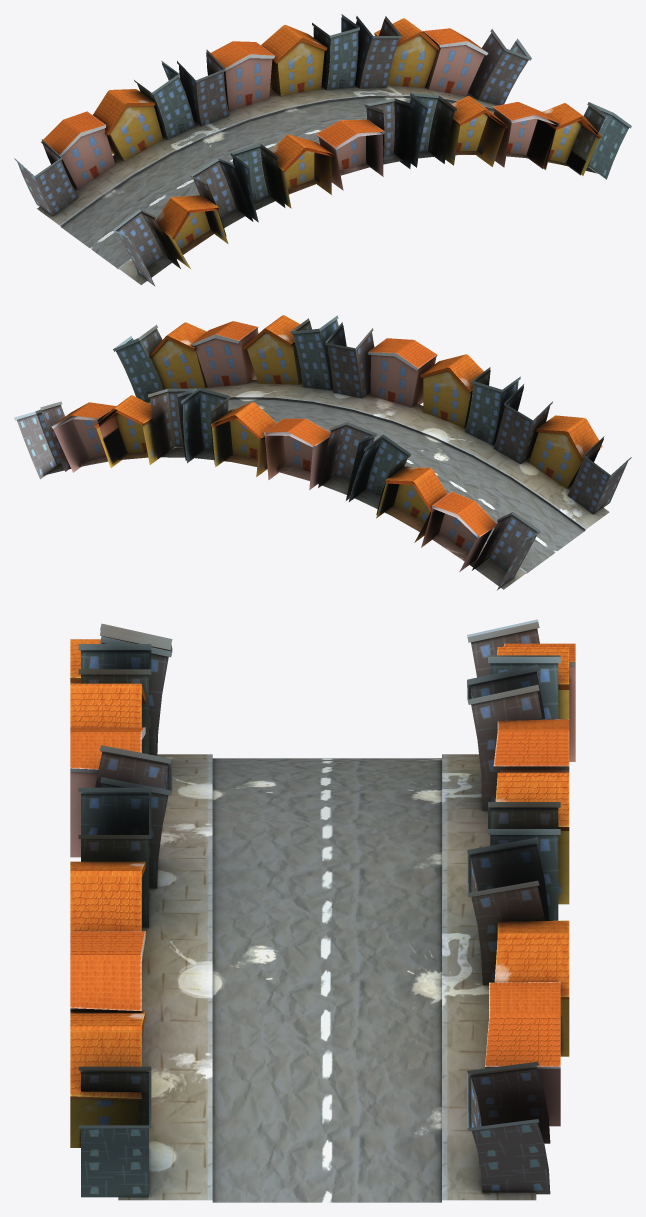
Rendered from modula_A.FBX.
3 views of the same model, one above another, from view 1: azimuth 30°, elevation 25°; view 2: azimuth 150°, elevation 25°; view 3: azimuth 270°, elevation 25° (orthographic). The views are drawn at different scales.
Parts seen in each view (by area): view 1: modula_A_03, modula_A_01, modula_A_02, modula_A_04, modula_A_00; view 2: modula_A_03, modula_A_04, modula_A_01, modula_A_00, modula_A_02; view 3: modula_A_03, modula_A_02, modula_A_00, modula_A_01, modula_A_04.
Part boxes in pixels (box(x1,y1,x2,y2)): modula_A_03: box(37, 85, 597, 284); modula_A_01: box(14, 41, 274, 216); modula_A_02: box(261, 14, 531, 105); modula_A_04: box(113, 119, 384, 286); modula_A_00: box(364, 92, 631, 179); modula_A_03: box(43, 379, 609, 589); modula_A_04: box(368, 338, 631, 514); modula_A_01: box(264, 418, 540, 590); modula_A_00: box(113, 315, 374, 402); modula_A_02: box(14, 387, 276, 479); modula_A_03: box(118, 754, 536, 1202); modula_A_02: box(467, 772, 569, 1194); modula_A_00: box(70, 745, 172, 1197); modula_A_01: box(467, 619, 575, 810); modula_A_04: box(70, 623, 172, 857).
Size of the model in its own units: 222 by 51.29 by 96.27.
